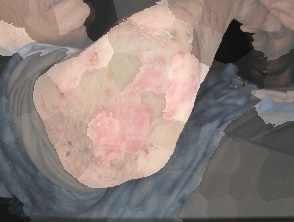SJS-TEN: (8, 0, 294, 220)
